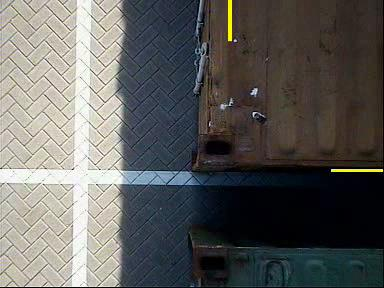groundmarker_2: (121, 183, 187, 216)
